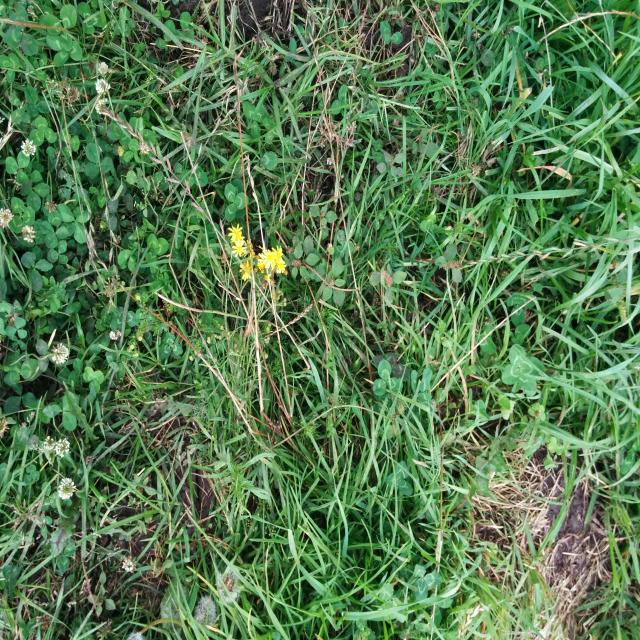Four Leaf Clover: (501, 344, 545, 392)
